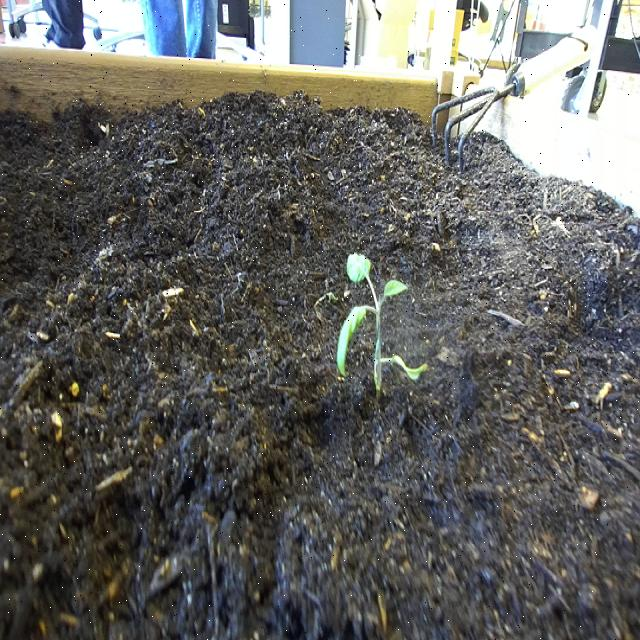Healthy: (332, 247, 432, 420)
